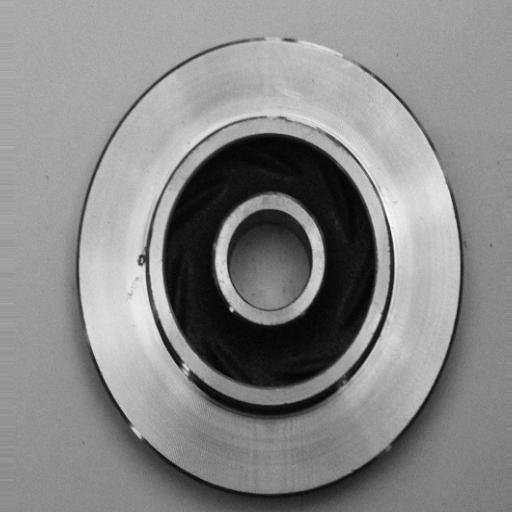crack: (133, 225, 155, 284)
scratch: (255, 101, 341, 145), (123, 409, 159, 452), (174, 349, 202, 385)
unpolished_casting: (74, 30, 466, 500)
